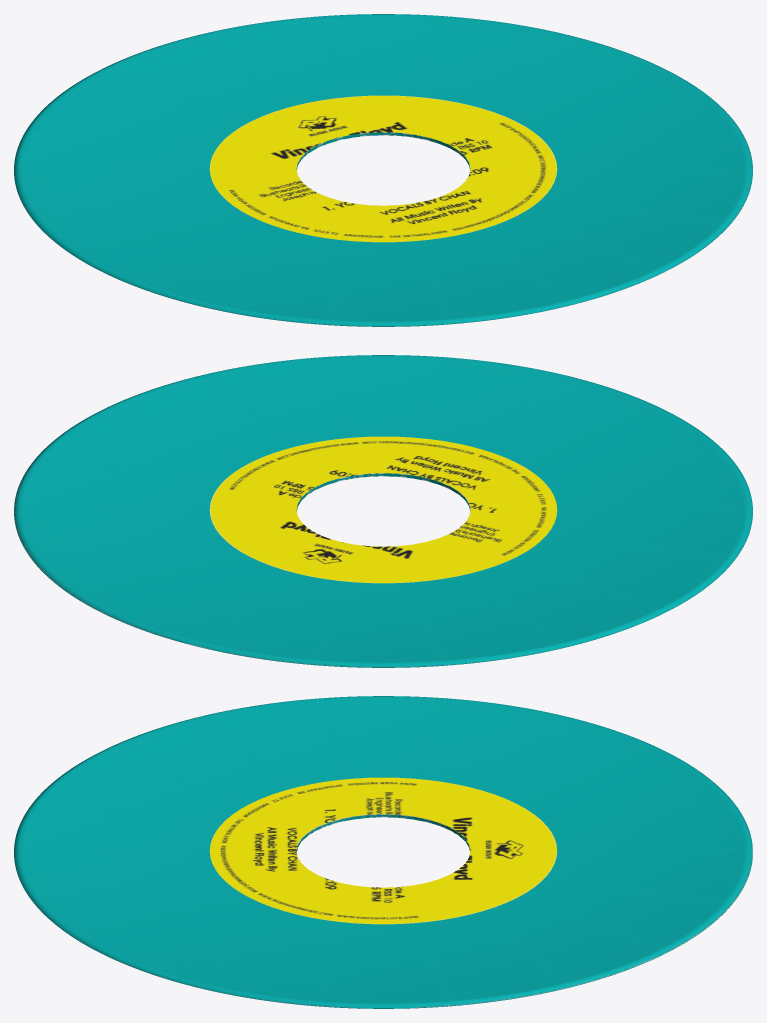
Rendered from vinyl_7_large_with_labels.dae.
3 views of the same model, one above another, from view 1: azimuth 30°, elevation 25°; view 2: azimuth 150°, elevation 25°; view 3: azimuth 270°, elevation 25° (orthographic).
Visible parts, largest first — view 1: vinyl, label; view 2: vinyl, label; view 3: vinyl, label.
Part boxes in pixels (x1,y1,x2,y2): vinyl: (14, 14, 752, 326); label: (209, 95, 557, 242); vinyl: (14, 355, 752, 667); label: (209, 436, 557, 583); vinyl: (14, 696, 752, 1008); label: (209, 777, 557, 924).
Bounding box in the file's own units: 17 × 0.1191 × 17.
Materials: 2 (2 with a texture image).
